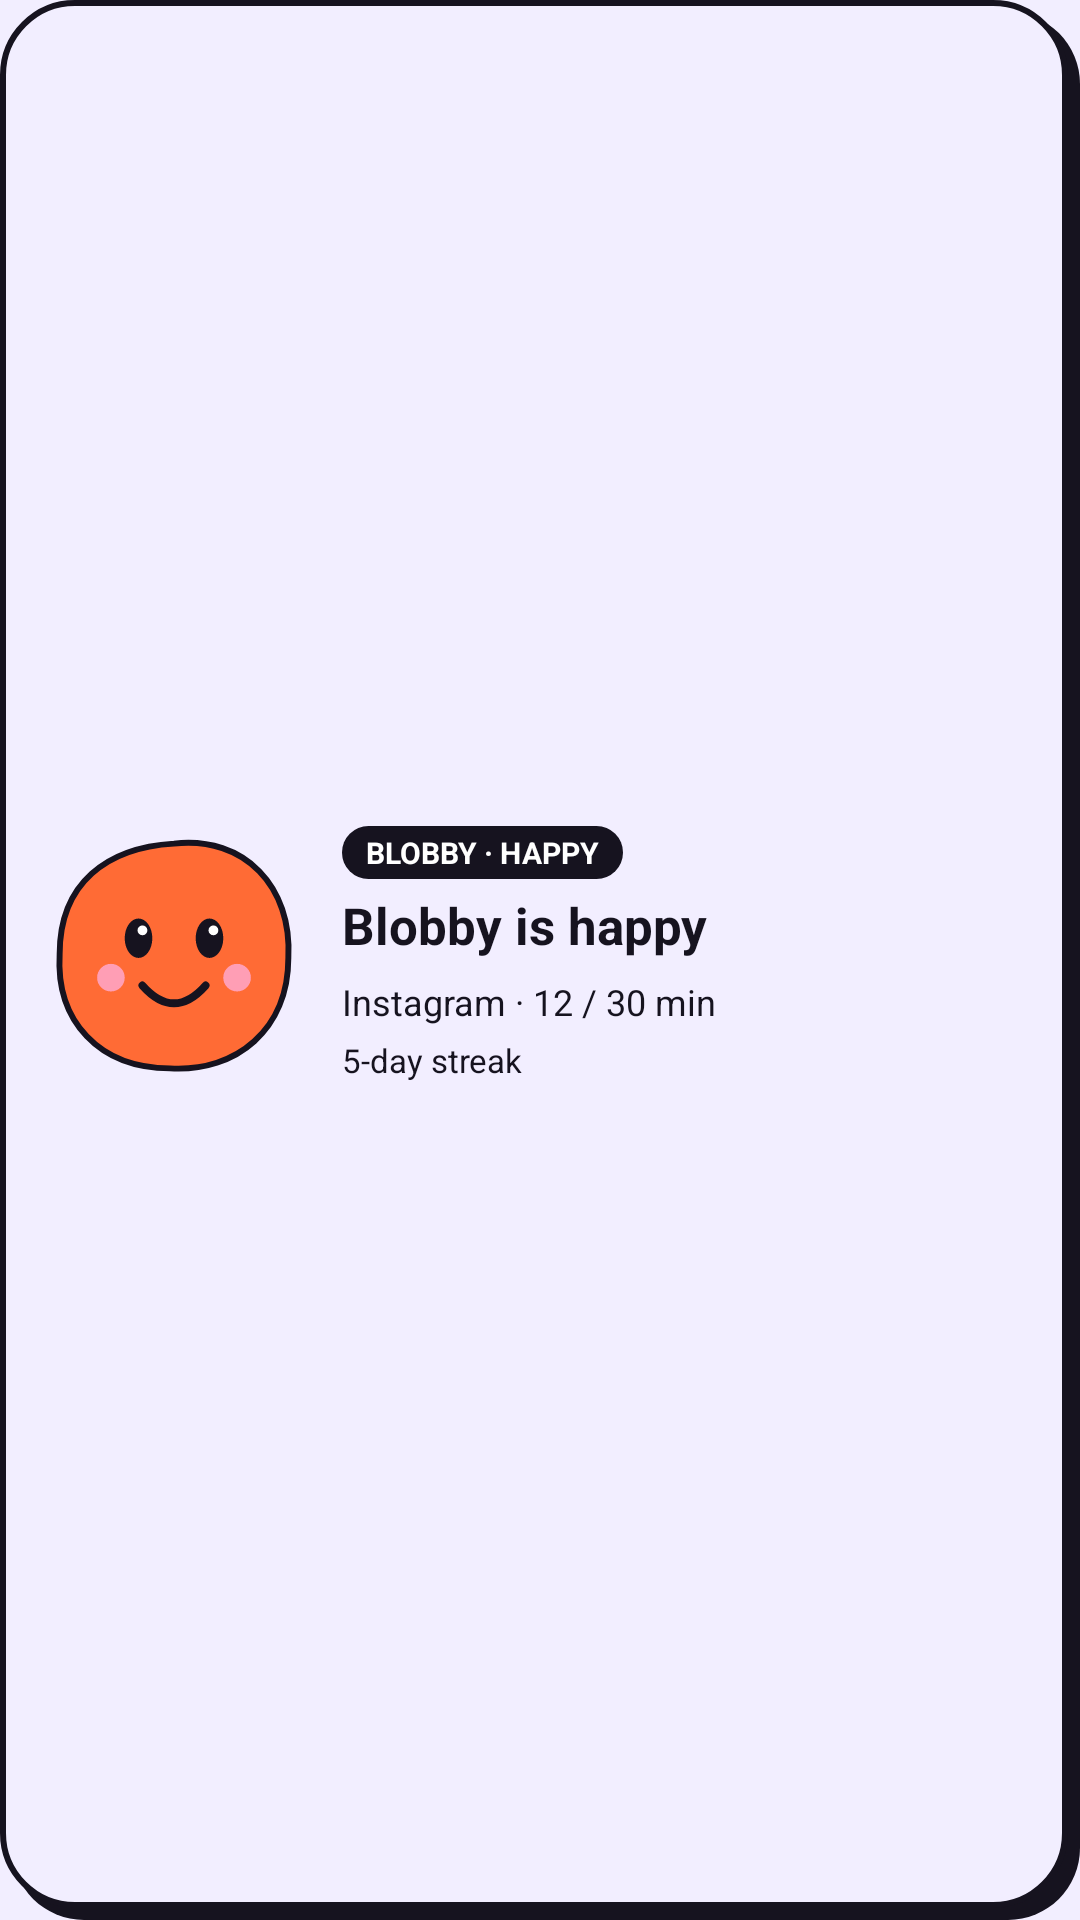

Screen size 1080 x 1920. Icon name, then its box in pixels as bbox(x1, y1, x2, y2):
Mascot: bbox(56, 839, 292, 1072)
